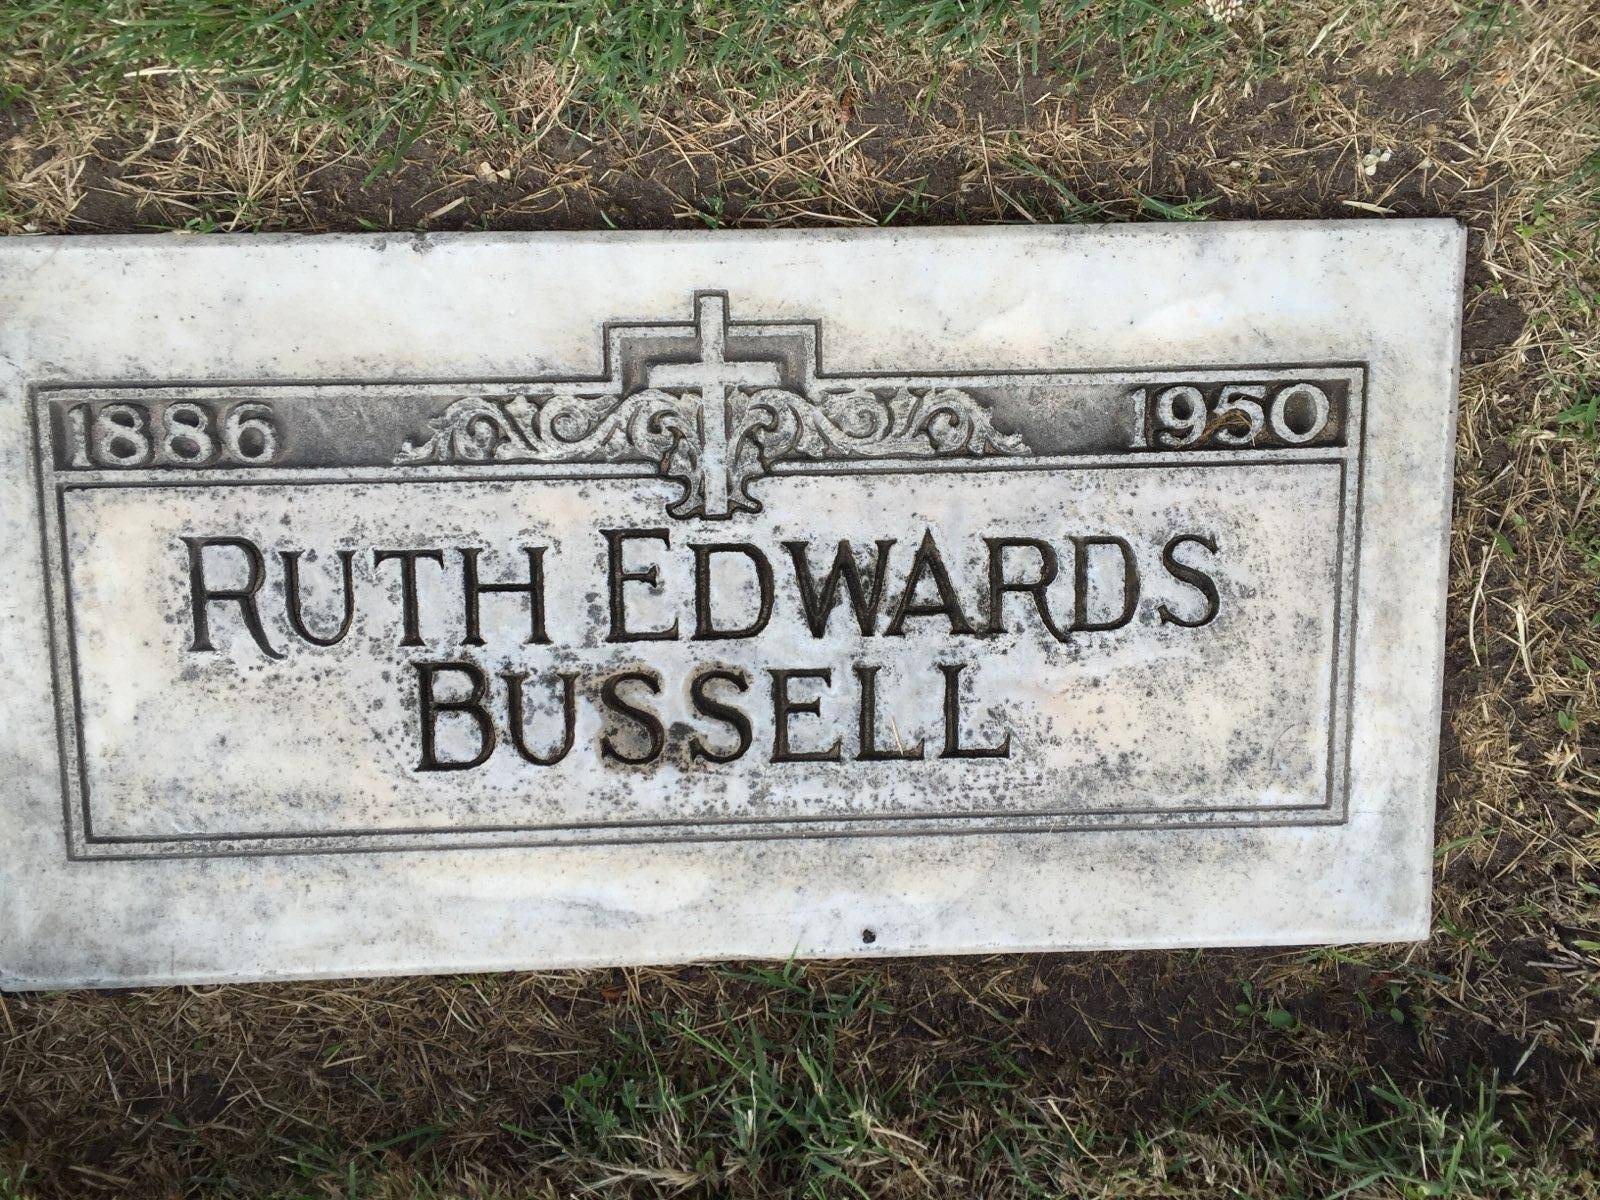flat: (6, 205, 1460, 993)
